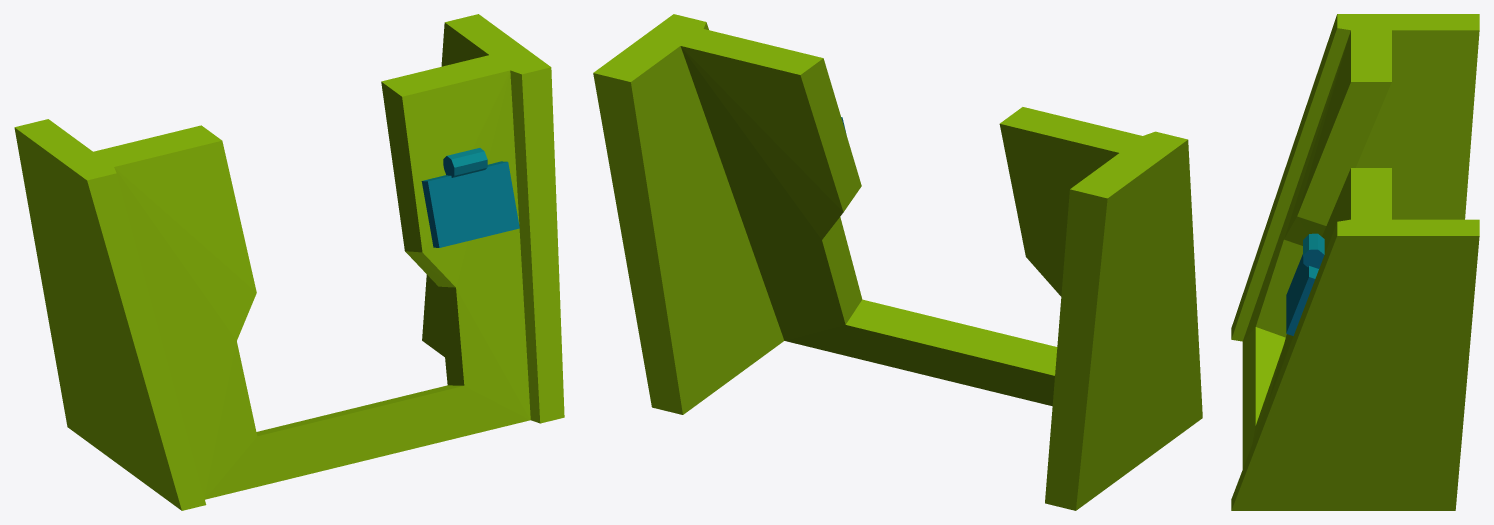
File: CannonG_Guard00.FBX
3 renders of one model, left to right at view 1: azimuth 30°, elevation 25°; view 2: azimuth 150°, elevation 25°; view 3: azimuth 270°, elevation 25°, orthographic. The views are drawn at different scales.
Visible parts, largest first — view 1: CannonG_Guard00; view 2: CannonG_Guard00; view 3: CannonG_Guard00.
Boxes of the visible parts, x1=… form: CannonG_Guard00: x1=14, y1=14, x2=564, y2=510; CannonG_Guard00: x1=593, y1=14, x2=1202, y2=510; CannonG_Guard00: x1=1231, y1=14, x2=1479, y2=510.
Size of the model in its own units: 228 by 141 by 108.
